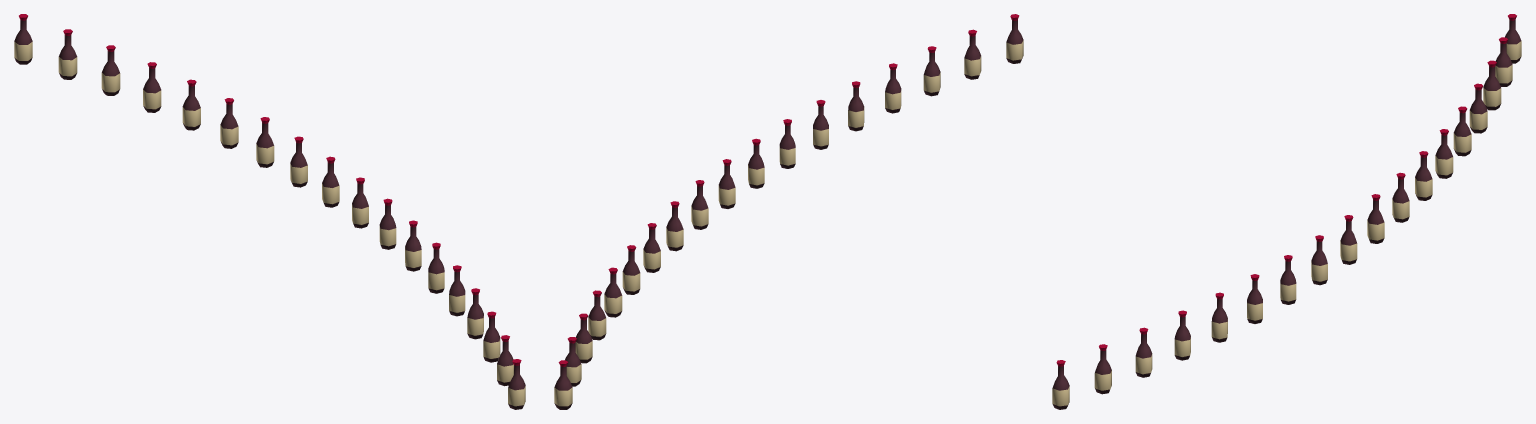
Rendered from bottles_bottom.glb.
3 renders of one model, left to right at view 1: azimuth 30°, elevation 25°; view 2: azimuth 150°, elevation 25°; view 3: azimuth 330°, elevation 25°, orthographic. The views are drawn at different scales.
Visible parts, largest first — view 1: bottles_bottom; view 2: bottles_bottom; view 3: bottles_bottom.
Part boxes in pixels (x1,y1,x2,y2): bottles_bottom: [14, 14, 525, 409]; bottles_bottom: [554, 14, 1023, 409]; bottles_bottom: [1052, 14, 1521, 409].
Bounding box in the file's own units: 1.44 × 0.6351 × 12.13.
Materials: 2 (2 with a texture image).
